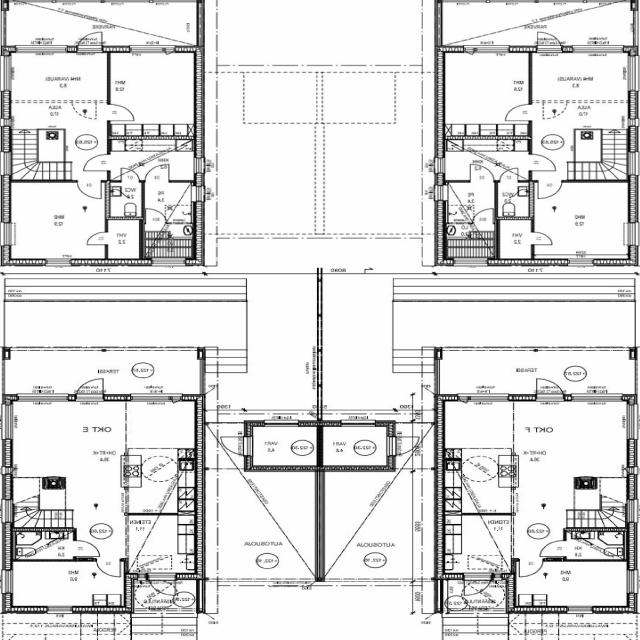door: (537, 376, 564, 402), (148, 573, 176, 598), (76, 376, 103, 401), (465, 573, 491, 598), (387, 437, 423, 455), (217, 437, 253, 455), (537, 28, 562, 52), (78, 29, 103, 52), (82, 154, 110, 171), (520, 558, 544, 577), (77, 180, 101, 199), (530, 154, 556, 171), (97, 558, 120, 577), (470, 164, 494, 182), (538, 180, 562, 198), (145, 164, 169, 182), (541, 540, 567, 556), (506, 104, 532, 120), (108, 104, 134, 120), (73, 541, 99, 556), (146, 209, 166, 225), (474, 209, 494, 224), (86, 232, 108, 245), (531, 232, 553, 244), (500, 168, 518, 182), (122, 168, 140, 182)
